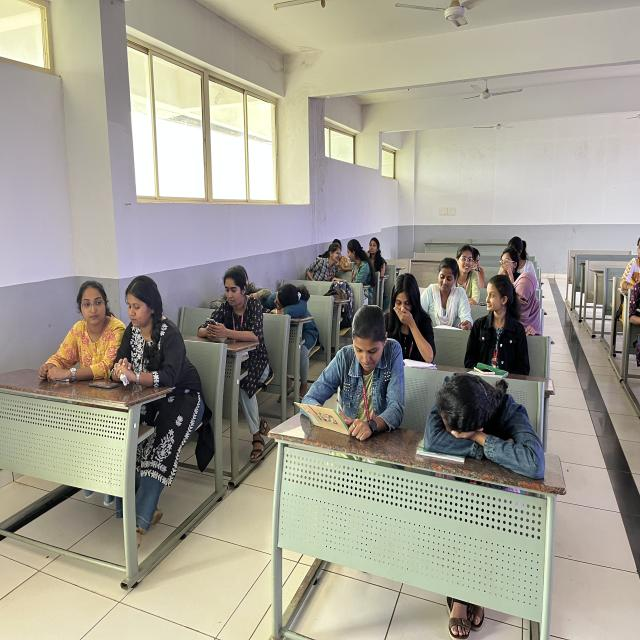Sleeping: (266, 274, 324, 378)
Using Phone: (200, 267, 273, 464)
Writing: (306, 304, 404, 445), (423, 256, 474, 332), (395, 273, 435, 364), (506, 266, 549, 341)
